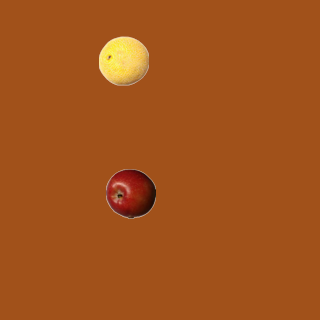Apple Braeburn: (105, 168, 155, 218)
Cantaloupe 1: (98, 35, 148, 85)
